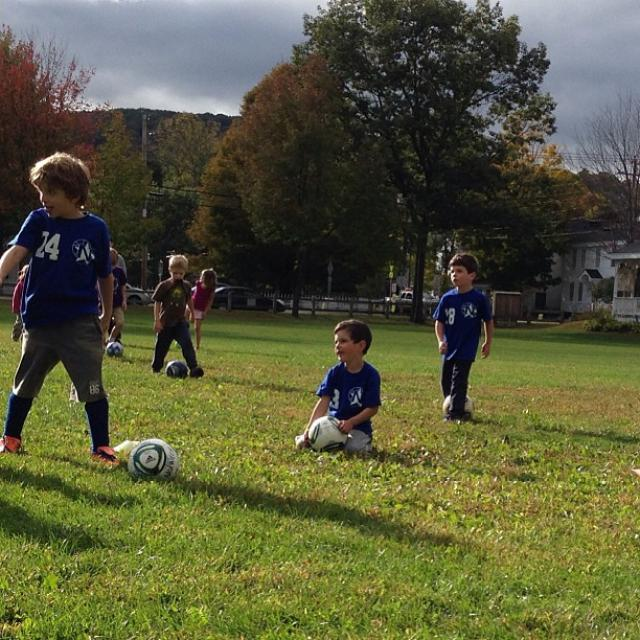Vehicle: (210, 286, 285, 312), (393, 291, 439, 320), (126, 283, 151, 304)
